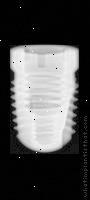Camlog: (10, 45, 79, 154)
